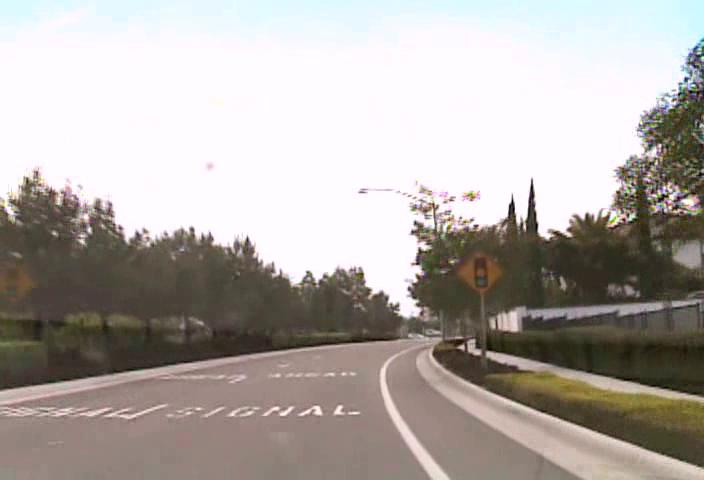signalAhead: (456, 247, 502, 293)
